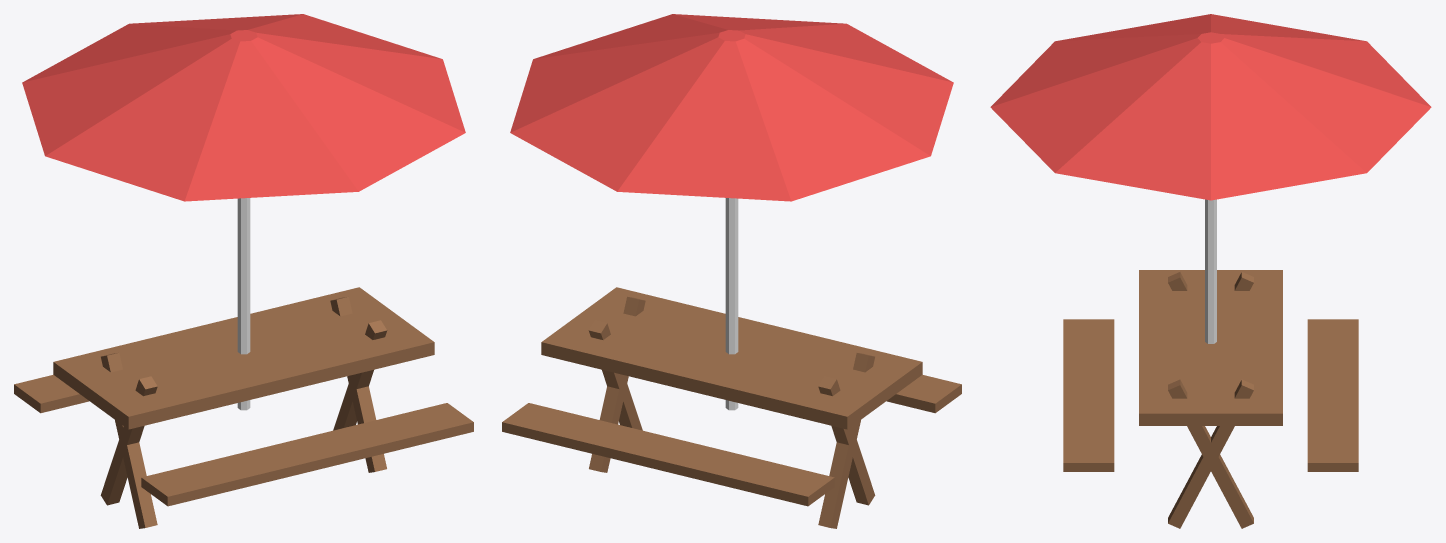
File: exits_picnic.glb
3 views of the same model, side by side, from view 1: azimuth 30°, elevation 25°; view 2: azimuth 150°, elevation 25°; view 3: azimuth 270°, elevation 25° (orthographic). The views are drawn at different scales.
Parts seen in each view (by area): view 1: ExitsPicnic_body; view 2: ExitsPicnic_body; view 3: ExitsPicnic_body.
Boxes of the visible parts, x1,y1,x2,y2 form: ExitsPicnic_body: (14, 14, 473, 528); ExitsPicnic_body: (502, 14, 961, 528); ExitsPicnic_body: (990, 14, 1431, 528).
Bounding box in the file's own units: 2.6 × 2.82 × 2.6.
